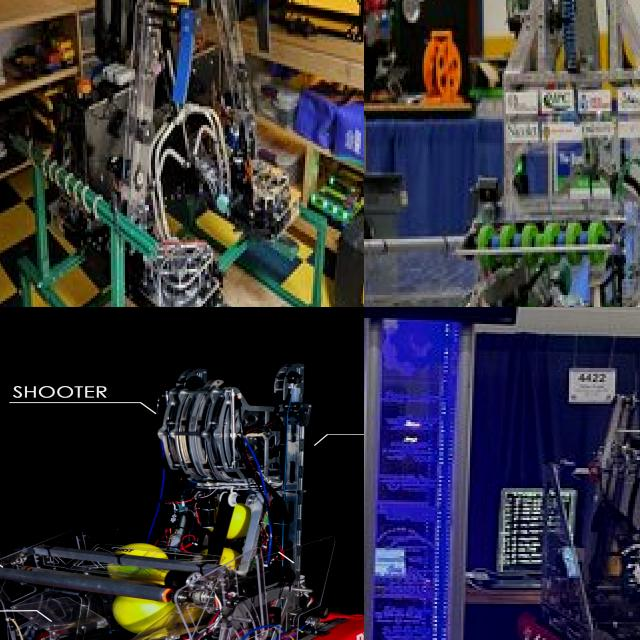FRC-Robots: (0, 370, 364, 640), (15, 0, 307, 307), (401, 0, 640, 307), (534, 381, 640, 640)
